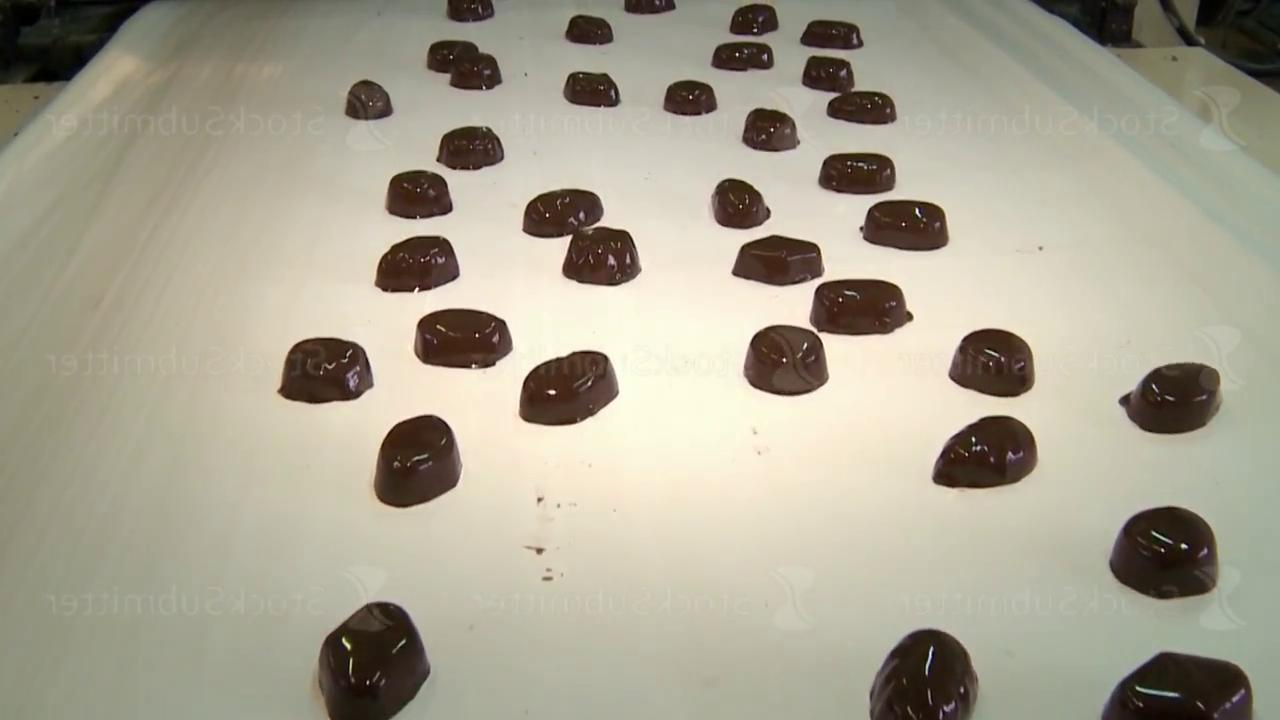chocolate: (317, 600, 431, 719), (1101, 650, 1254, 719), (1109, 505, 1219, 599), (869, 627, 979, 719), (374, 414, 462, 507), (933, 414, 1038, 488), (1120, 361, 1223, 434), (520, 350, 619, 425), (279, 336, 374, 403), (414, 308, 513, 369), (744, 324, 829, 395), (949, 328, 1035, 396), (811, 278, 913, 335), (375, 235, 460, 293), (732, 234, 824, 285), (563, 225, 641, 285), (862, 199, 949, 250), (523, 188, 604, 238), (386, 169, 453, 218), (819, 152, 896, 194), (437, 125, 504, 170), (712, 178, 771, 228), (743, 107, 800, 151), (828, 90, 897, 124), (564, 70, 621, 107), (345, 79, 393, 120), (664, 79, 717, 116), (803, 55, 855, 92), (801, 19, 864, 49), (712, 41, 774, 71), (730, 3, 779, 35), (566, 14, 614, 45), (448, 0, 495, 22)
